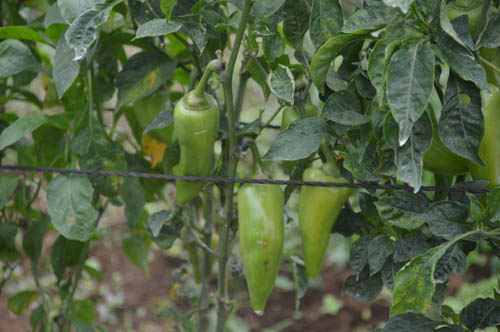ChiliPepper: (237, 183, 283, 319), (299, 169, 347, 275), (171, 103, 218, 207)
